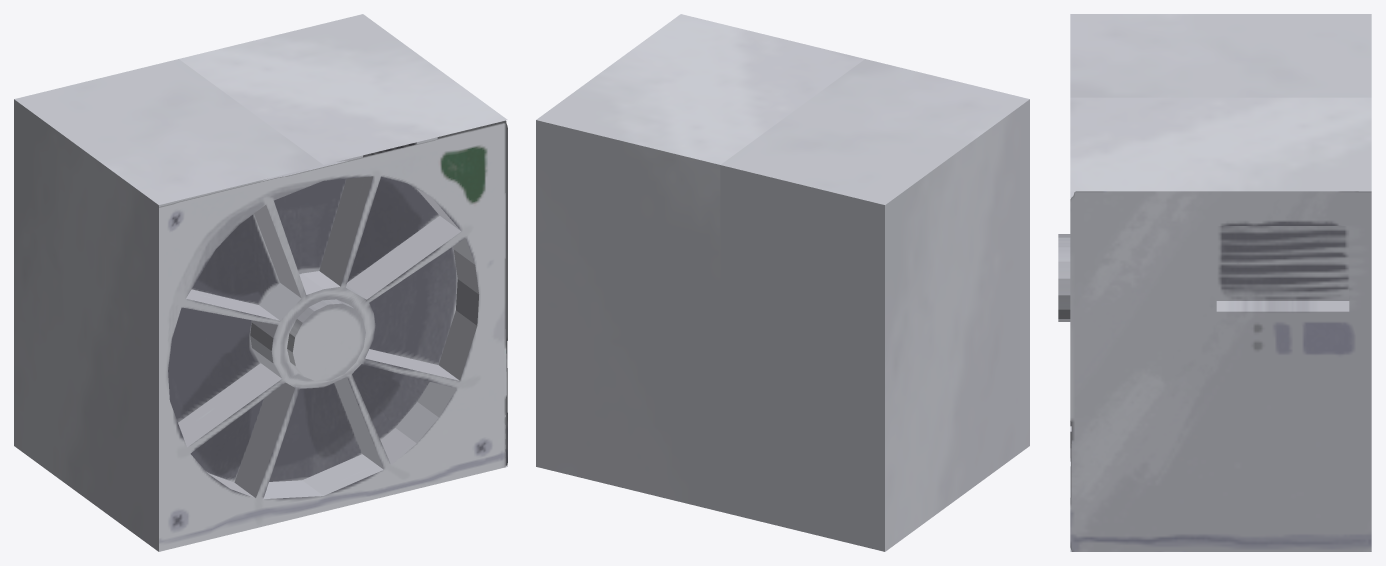
Rendered from ACLarge.fbx.
3 renders of one model, left to right at view 1: azimuth 30°, elevation 25°; view 2: azimuth 150°, elevation 25°; view 3: azimuth 270°, elevation 25°, orthographic. The views are drawn at different scales.
Parts seen in each view (by area): view 1: ACLarge; view 2: ACLarge; view 3: ACLarge.
Part boxes in pixels (bbox=[...]): ACLarge: bbox=[14, 14, 507, 551]; ACLarge: bbox=[536, 14, 1029, 551]; ACLarge: bbox=[1058, 14, 1371, 551].
Size of the model in its own units: 97.29 by 92.35 by 72.7.
Materials: 1 (1 with a texture image).
